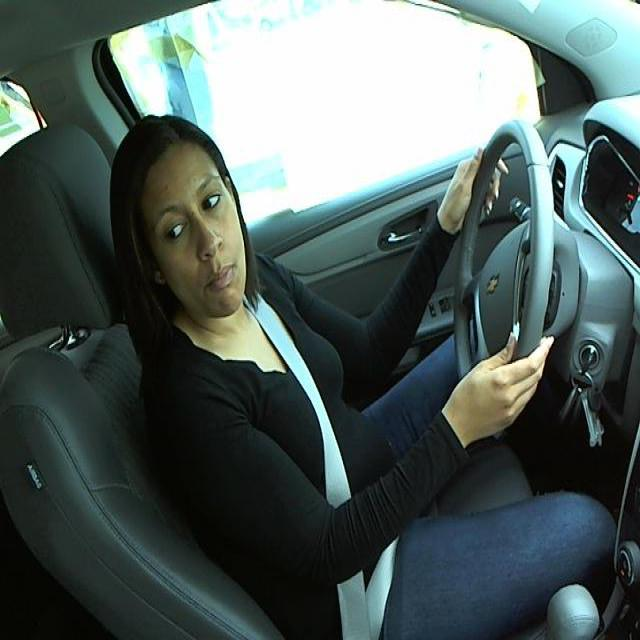seatbelt: (281, 318, 408, 630)
